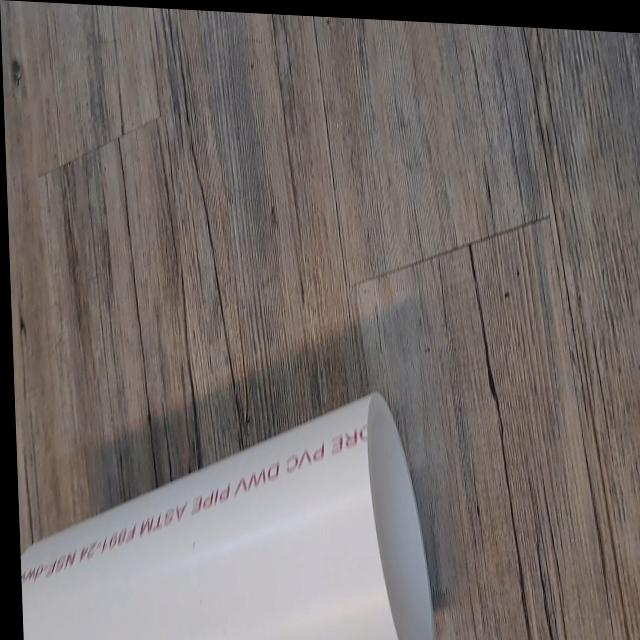CORAL: (15, 364, 439, 640)
